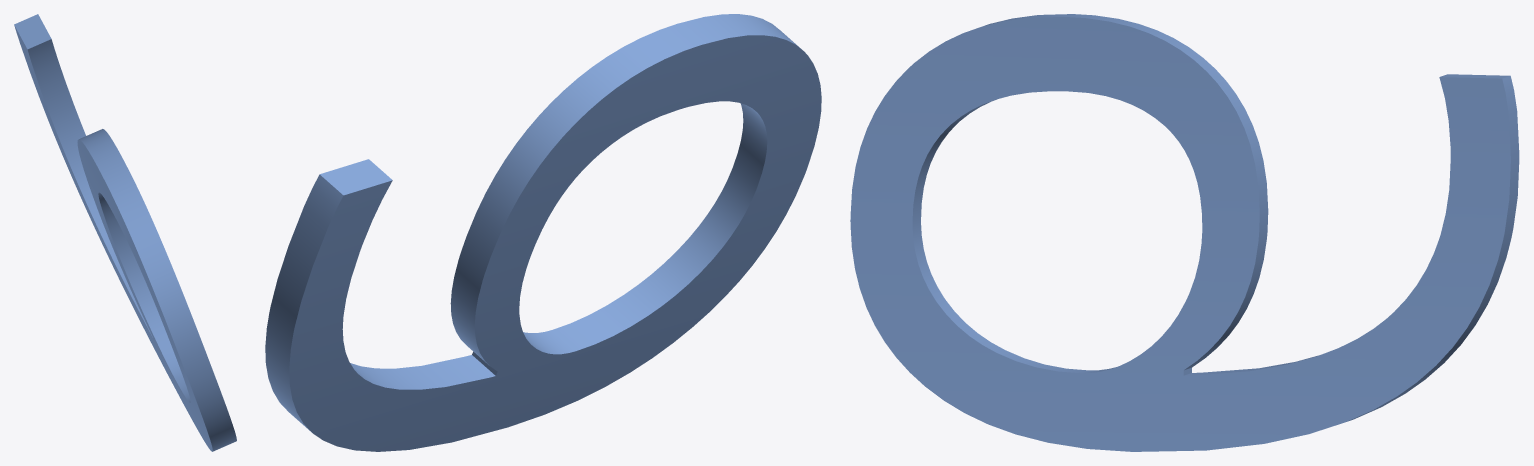
The model's file is Number_6.gltf.
The picture shows the model from 3 angles, left to right: view 1: azimuth 30°, elevation 25°; view 2: azimuth 150°, elevation 25°; view 3: azimuth 270°, elevation 25°; orthographic projection. The views are drawn at different scales.
Visible parts, largest first — view 1: Sub_8_Cell_2_3_Number_6; view 2: Sub_8_Cell_2_3_Number_6; view 3: Sub_8_Cell_2_3_Number_6.
Part boxes in pixels (<box>): Sub_8_Cell_2_3_Number_6: <box>14,14,236,451</box>; Sub_8_Cell_2_3_Number_6: <box>265,14,821,451</box>; Sub_8_Cell_2_3_Number_6: <box>850,14,1519,451</box>.
Bounding box in the file's own units: 0.0101 × 0.0158 × 0.0253.
